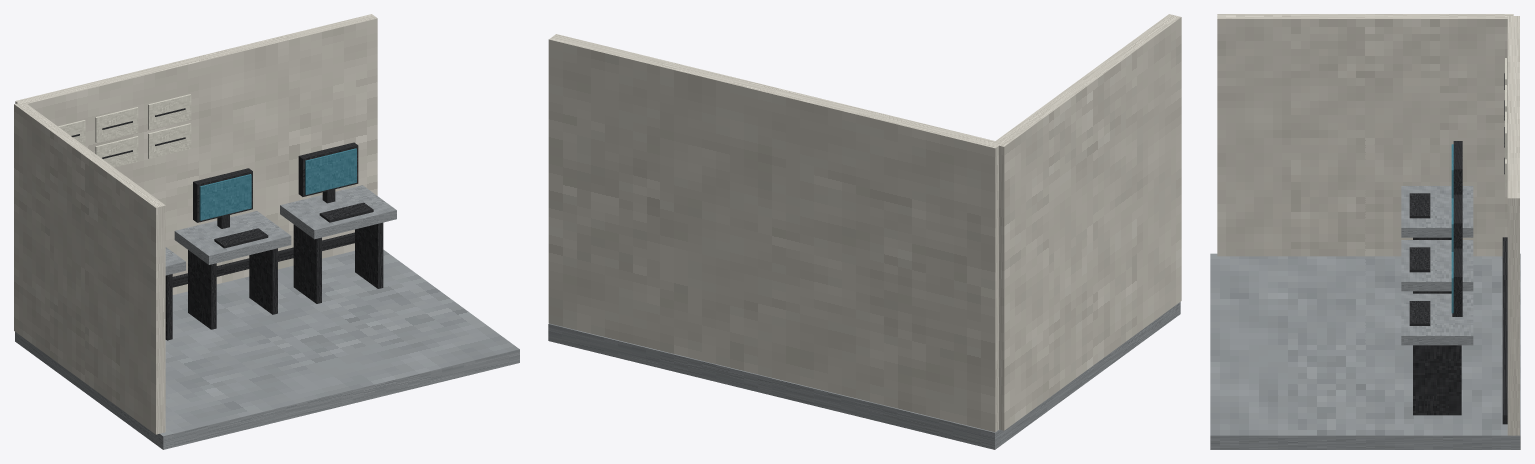
The model's file is mira-open-studio.glb.
The picture shows the model from 3 angles, left to right: view 1: azimuth 30°, elevation 25°; view 2: azimuth 150°, elevation 25°; view 3: azimuth 270°, elevation 25°; orthographic projection. The views are drawn at different scales.
Visible parts, largest first — view 1: floor, back wall, return wall, desk leg (×5), desk top (×2), pinned storyboard page (×4), screen (×2), monitor bezel (×2), keyboard (×2), wall trim; view 2: back wall, return wall, floor; view 3: return wall, floor, desk top (×3), back wall, desk leg, monitor bezel (×3), keyboard (×3), wall trim.
Boxes of the visible parts, x1,y1,x2,y2 form: floor: [15, 249, 519, 449]; back wall: [15, 14, 377, 294]; return wall: [14, 103, 165, 434]; desk leg (×5): [165, 222, 383, 340]; desk top (×2): [174, 185, 396, 264]; pinned storyboard page (×4): [95, 94, 191, 167]; screen (×2): [199, 148, 356, 220]; monitor bezel (×2): [193, 142, 358, 222]; keyboard (×2): [214, 202, 373, 248]; wall trim: [172, 232, 354, 287]; back wall: [548, 34, 1001, 432]; return wall: [992, 14, 1181, 430]; floor: [548, 302, 1180, 449]; return wall: [1217, 14, 1513, 256]; floor: [1210, 253, 1520, 449]; desk top (×3): [1401, 186, 1473, 345]; back wall: [1507, 16, 1519, 435]; desk leg: [1413, 345, 1461, 415]; monitor bezel (×3): [1453, 141, 1462, 316]; keyboard (×3): [1409, 193, 1430, 325]; wall trim: [1502, 237, 1507, 424].
Bounding box in the file's own units: 3.76 × 2.4 × 2.68.
Materials: 5 (5 with a texture image).
